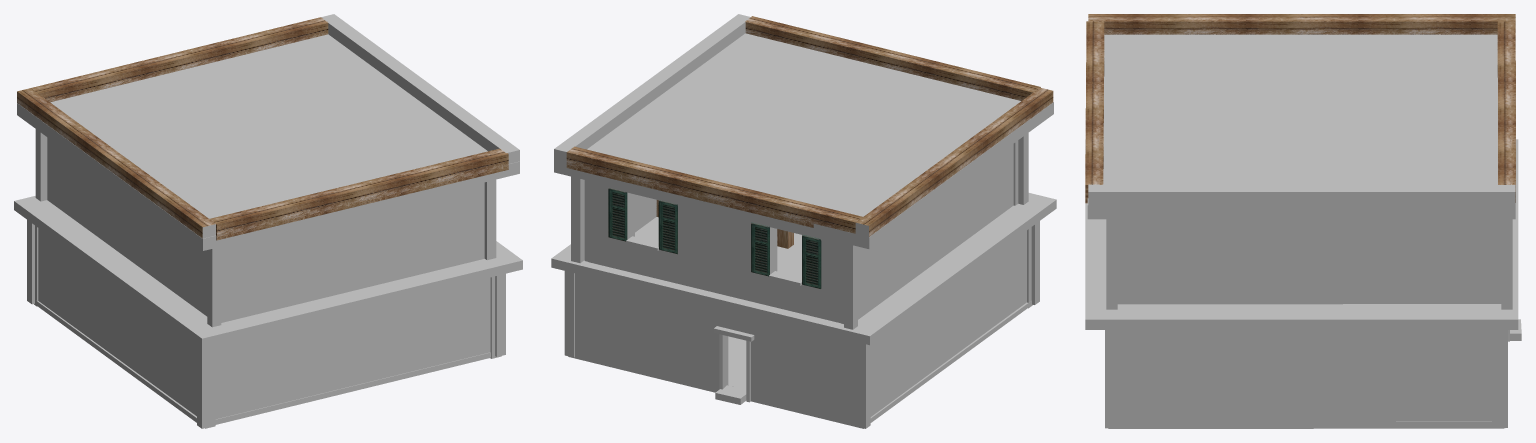
Rendered from Town House Small.FBX.
The picture shows the model from 3 angles, left to right: view 1: azimuth 30°, elevation 25°; view 2: azimuth 150°, elevation 25°; view 3: azimuth 270°, elevation 25°; orthographic projection. The views are drawn at different scales.
Visible parts, largest first — view 1: Box037, Box002, Box030, Box012, Box004, Box028, Box041, Box040, Box039, Box038, Box001, Box042 (+6 smaller); view 2: Box037, Box055, Box056, Box012, Box004, Box028, Box040, Box041, Box039, Box038, Box001, Box051 (+11 smaller); view 3: Box037, Box003, Box029, Box012, Box038, Box039, Box041, Box040, Box001, Box043, Box045, Box046 (+2 smaller).
Boxes of the visible parts, x1,y1,x2,y2 form: Box037: (17,34,519,250); Box002: (215,277,490,424); Box030: (221,182,484,322); Box012: (14,196,522,347); Box004: (38,228,215,428); Box028: (47,137,207,316); Box041: (210,148,508,240); Box040: (31,17,328,102); Box039: (17,88,215,238); Box038: (321,14,519,163); Box001: (36,300,490,424); Box042: (197,344,211,428); Box037: (554,33,1053,248); Box055: (568,273,863,428); Box056: (588,181,840,323); Box012: (551,193,1056,345); Box004: (870,230,1026,416); Box028: (841,144,1013,323); Box040: (566,146,862,233); Box041: (745,16,1040,100); Box039: (855,87,1053,241); Box038: (554,14,750,167); Box001: (728,300,1031,422); Box051: (751,222,777,276); Box037: (1087,34,1515,219); Box003: (1108,330,1503,428); Box029: (1117,219,1501,304); Box012: (1085,139,1518,329); Box038: (1088,184,1515,210); Box039: (1088,14,1515,34); Box041: (1085,21,1104,203); Box040: (1497,21,1515,202); Box001: (1194,421,1491,427); Box043: (1105,330,1116,428); Box045: (1496,330,1507,427); Box046: (1501,219,1512,309).
Bounding box in the file's own units: 111 × 69.37 × 113.
